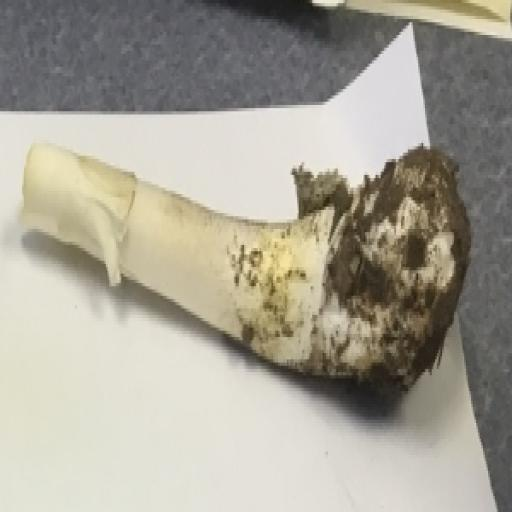mushroom: (21, 144, 470, 388)
